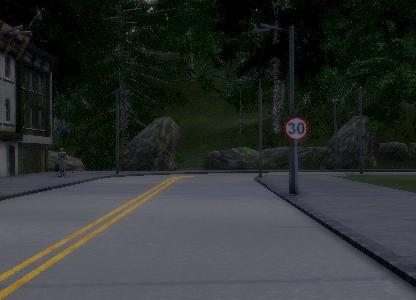Speed_30: (285, 114, 310, 142)
